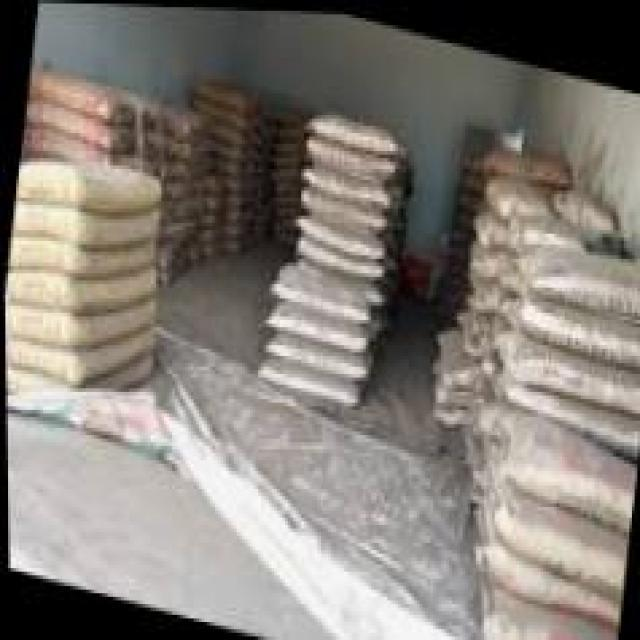gunny_bag: (478, 435, 626, 599), (496, 398, 635, 530), (476, 501, 619, 626), (472, 538, 615, 640), (492, 317, 640, 410), (494, 362, 640, 456), (508, 232, 640, 320), (498, 285, 640, 366), (5, 349, 154, 424), (4, 321, 154, 386), (14, 155, 163, 216), (4, 294, 157, 349), (4, 262, 158, 315), (9, 198, 161, 249), (27, 67, 136, 128), (6, 233, 156, 276), (261, 298, 371, 353), (23, 98, 135, 152), (253, 354, 361, 408), (265, 271, 372, 324), (261, 326, 369, 378), (302, 130, 400, 183), (302, 103, 401, 154), (296, 182, 393, 232), (296, 161, 397, 209), (289, 211, 386, 259), (292, 233, 386, 278), (188, 93, 254, 131), (190, 75, 256, 112), (206, 115, 250, 146), (210, 133, 248, 160), (212, 153, 248, 180), (214, 229, 252, 253), (219, 170, 248, 195), (220, 203, 250, 223), (218, 219, 249, 238), (222, 187, 248, 209)
